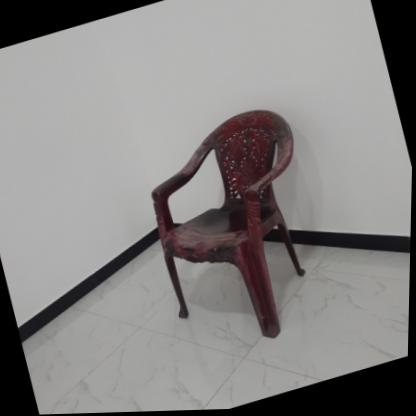Chair: (131, 100, 343, 366)
